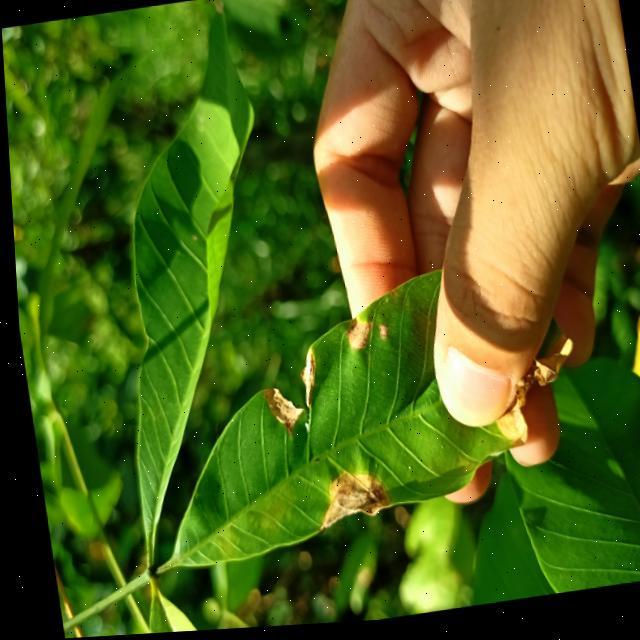Leaf-Blight: (479, 337, 581, 457), (305, 470, 385, 533), (257, 385, 301, 438), (291, 349, 315, 411), (340, 323, 371, 354)
